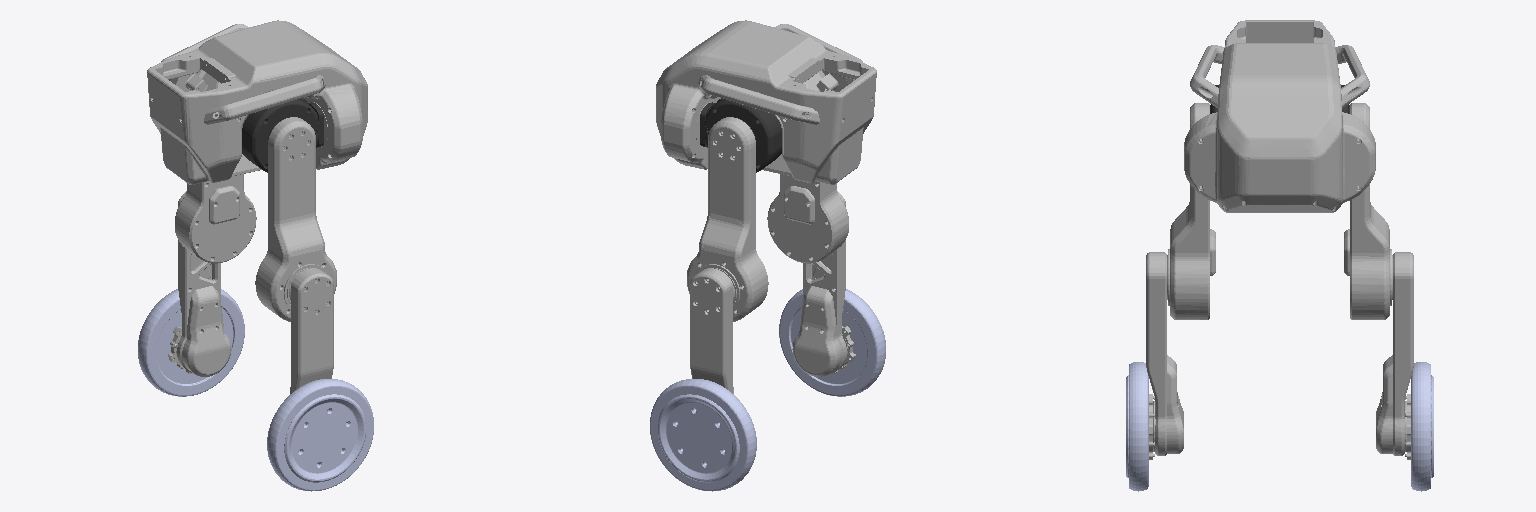
URDF robot description (pineapple):
<?xml version="1.0" encoding="utf-8"?>
<!-- This URDF was automatically created by SolidWorks to URDF Exporter! Originally created by [author] ([email redacted]) 
     Commit Version: 1.6.0-4-g7f85cfe  Build Version: 1.6.7995.38578
     For more information, please see http://wiki.ros.org/sw_urdf_exporter -->
<robot
  name="pineapple">
  <mujoco>
  <compiler
    meshdir="../meshes"
    balanceinertia="true"
    discardvisual="false" />
  </mujoco>
  <link
    name="base_link">
    <inertial>
      <origin
        xyz="0.00129425 0.00000000 0.01223901"
        rpy="0 0 0" />
      <mass
        value="2.65000000" />
      <inertia
        ixx="0.010715"
        ixy="0.000013"
        ixz="0.000632"
        iyy="0.010702"
        iyz="-0.000011"
        izz="0.014614" />
    </inertial>
    <visual>
      <origin
        xyz="0 0 0"
        rpy="0 0 0" />
      <geometry>
        <mesh
          filename="../meshes/base_link.STL" />
      </geometry>
      <material
        name="">
        <color
          rgba="0.752941176470588 0.752941176470588 0.752941176470588 1" />
      </material>
    </visual>
    <collision>
      <origin
        xyz="0 0 0"
        rpy="0 0 0" />
      <geometry>
        <mesh
          filename="../meshes/base_collision.STL" />
      </geometry>
    </collision>
  </link>
  <link
    name="L_hip">
    <inertial>
      <origin
        xyz="0.00055289 -0.00275740 0.00000000"
        rpy="0 0 0" />
      <mass
        value="0.64000000" />
      <inertia
        ixx="0.00065448"
        ixy="-0.00000344"
        ixz="0.00000098"
        iyy="0.00103799"
        iyz="0.0000001"
        izz="0.00074445" />
    </inertial>
    <visual>
      <origin
        xyz="0 0 0"
        rpy="0 0 0" />
      <geometry>
        <mesh
          filename="../meshes/L_hip.STL" />
      </geometry>
      <material
        name="">
        <color
          rgba="0.27843137254902 0.27843137254902 0.27843137254902 1" />
      </material>
    </visual>
  </link>
  <joint
    name="L_hip_joint"
    type="revolute">
    <origin
      xyz="0 0.061249999999998 0.0610009280869146"
      rpy="0 0 0" />
    <parent
      link="base_link" />
    <child
      link="L_hip" />
    <axis
      xyz="1 0 0" />
  </joint>
  <link
    name="L_thigh">
    <inertial>
      <origin
        xyz="-0.00168662 0.02735711 -0.11773571"
        rpy="0 0 0" />
      <mass
        value="0.88000000" />
      <inertia
        ixx="0.00631647"
        ixy="0.00000047"
        ixz="-0.00000296"
        iyy="0.00659227"
        iyz="0.00039185"
        izz="0.00068620" />
    </inertial>
    <visual>
      <origin
        xyz="0 0 0"
        rpy="0 0 0" />
      <geometry>
        <mesh
          filename="../meshes/L_thigh.STL" />
      </geometry>
      <material
        name="">
        <color
          rgba="0.752941176470588 0.752941176470588 0.752941176470588 1" />
      </material>
    </visual>
    <collision>
      <origin
        xyz="0 0 0"
        rpy="0 0 0" />
      <geometry>
        <mesh
          filename="../meshes/L_thigh_collision.STL" />
      </geometry>
    </collision>
  </link>
  <joint
    name="L_thigh_joint"
    type="revolute">
    <origin
      xyz="0 0.01 0"
      rpy="0 0 0" />
    <parent
      link="L_hip" />
    <child
      link="L_thigh" />
    <axis
      xyz="0 1 0" />
    <limit
      lower="0"
      upper="2.1"
      effort="23.7"
      velocity="30.1" />
  </joint>
  <link
    name="L_calf">
    <inertial>
      <origin
        xyz="-0.00006699 0.03201486 -0.12089345"
        rpy="0 0 0" />
      <mass
        value="0.65000000" />
      <inertia
        ixx="0.00444119"
        ixy="-0.00000033"
        ixz="0.00000192"
        iyy="0.00451841"
        iyz="-0.00001170"
        izz="0.00025823" />
    </inertial>
    <visual>
      <origin
        xyz="0 0 0"
        rpy="0 0 0" />
      <geometry>
        <mesh
          filename="../meshes/L_calf.STL" />
      </geometry>
      <material
        name="">
        <color
          rgba="0.752941176470588 0.752941176470588 0.752941176470588 1" />
      </material>
    </visual>
    <collision>
      <origin
        xyz="0 0 0"
        rpy="0 0 0" />
      <geometry>
        <mesh
          filename="../meshes/L_calf_collision.STL" />
      </geometry>
    </collision>
  </link>
  <joint
    name="L_calf_joint"
    type="revolute">
    <origin
      xyz="-0.0016536285573749 0.0388671106492234 -0.190000930017623"
      rpy="0 0 0" />
    <parent
      link="L_thigh" />
    <child
      link="L_calf" />
    <axis
      xyz="0 1 0" />
    <limit
      lower="-3.3"
      upper="0"
      effort="23.7"
      velocity="30.1" />
  </joint>
  <link
    name="L_wheel">
    <inertial>
      <origin
        xyz="0.00000000 0.01250278 0.00000000"
        rpy="0 0 0" />
      <mass
        value="0.30500000" />
      <inertia
        ixx="0.00053977"
        ixy="0.00000001"
        ixz="0.00000001"
        iyy="0.00105427"
        iyz="0.00000001"
        izz="0.00053980" />
    </inertial>
    <visual>
      <origin
        xyz="0 0 0"
        rpy="0 0 0" />
      <geometry>
        <mesh
          filename="../meshes/L_wheel.STL" />
      </geometry>
      <material
        name="">
        <color
          rgba="0.792156862745098 0.819607843137255 0.933333333333333 1" />
      </material>
    </visual>
    <collision>
        <origin xyz="0 0.013 0" rpy="1.5708 0 0"/>
        <geometry>
          <cylinder radius="0.075" length="0.026"/>
        </geometry>
    </collision>
  </link>
  <joint
    name="L_wheel_joint"
    type="continuous">
    <origin
      xyz="0 0.0421817504179249 -0.190000000000001"
      rpy="0 0 0" />
    <parent
      link="L_calf" />
    <child
      link="L_wheel" />
    <axis
      xyz="0 1 0" />
  </joint>
  <link
    name="R_hip">
    <inertial>
      <origin
        xyz="0.00055295 0.00275734 0.00000000"
        rpy="0 0 0" />
      <mass
        value="0.64000000" />
      <inertia
        ixx="0.00065447"
        ixy="0.00000344"
        ixz="0.00000098"
        iyy="0.00103798"
        iyz="0.00000001"
        izz="0.00074444" />
    </inertial>
    <visual>
      <origin
        xyz="0 0 0"
        rpy="0 0 0" />
      <geometry>
        <mesh
          filename="../meshes/R_hip.STL" />
      </geometry>
      <material
        name="">
        <color
          rgba="0.27843137254902 0.27843137254902 0.27843137254902 1" />
      </material>
    </visual>
  </link>
  <joint
    name="R_hip_joint"
    type="revolute">
    <origin
      xyz="0 -0.0612499999999985 0.0610009280869152"
      rpy="0 0 0" />
    <parent
      link="base_link" />
    <child
      link="R_hip" />
    <axis
      xyz="1 0 0" />
  </joint>
  <link
    name="R_thigh">
    <inertial>
      <origin
        xyz="-0.01168842 -0.03735700 -0.11773770"
        rpy="0 0 0" />
      <mass
        value="0.88000000" />
      <inertia
        ixx="0.00631637"
        ixy="-0.00000046"
        ixz="-0.00000316"
        iyy="0.00659176"
        iyz="-0.00039185"
        izz="0.00068581" />
    </inertial>
    <visual>
      <origin
        xyz="0 0 0"
        rpy="0 0 0" />
      <geometry>
        <mesh
          filename="../meshes/R_thigh.STL" />
      </geometry>
      <material
        name="">
        <color
          rgba="0.752941176470588 0.752941176470588 0.752941176470588 1" />
      </material>
    </visual>
    <collision>
      <origin
        xyz="0 0 0"
        rpy="0 0 0" />
      <geometry>
        <mesh
          filename="../meshes/R_thigh_collision.STL" />
      </geometry>
    </collision>
  </link>
  <joint
    name="R_thigh_joint"
    type="revolute">
    <origin
      xyz="0.01 0 0"
      rpy="0 0 0" />
    <parent
      link="R_hip" />
    <child
      link="R_thigh" />
    <axis
      xyz="0 1 0" />
    <limit
      lower="0"
      upper="2.1"
      effort="23.7"
      velocity="30.1" />
  </joint>
  <link
    name="R_calf">
    <inertial>
      <origin
        xyz="0.00008556 -0.03238223 -0.12089"
        rpy="0 0 0" />
      <mass
        value="0.65000000" />
      <inertia
        ixx="0.00444119"
        ixy="-0.00000033"
        ixz="0.00000192"
        iyy="0.00451841"
        iyz="-0.00001170"
        izz="0.00025823" />
    </inertial>
    <visual>
      <origin
        xyz="0 0 0"
        rpy="0 0 0" />
      <geometry>
        <mesh
          filename="../meshes/R_calf.STL" />
      </geometry>
      <material
        name="">
        <color
          rgba="0.752941176470588 0.752941176470588 0.752941176470588 1" />
      </material>
    </visual>
    <collision>
      <origin
        xyz="0 0 0"
        rpy="0 0 0" />
      <geometry>
        <mesh
          filename="../meshes/R_calf_collision.STL" />
      </geometry>
    </collision>
  </link>
  <joint
    name="R_calf_joint"
    type="revolute">
    <origin
      xyz="-0.0116536285573748 -0.0488671065357543 -0.190000930017624"
      rpy="0 0 0" />
    <parent
      link="R_thigh" />
    <child
      link="R_calf" />
    <axis
      xyz="0 1 0" />
    <limit
      lower="-3.3"
      upper="0"
      effort="23.7"
      velocity="30.1" />
  </joint>
  <link
    name="R_wheel">
    <inertial>
      <origin
        xyz="0.00000000 -0.01250277 0.00000000"
        rpy="0 0 0" />
      <mass
        value="0.30500000" />
      <inertia
        ixx="0.00053977"
        ixy="-0.00000001"
        ixz="0.00000003"
        iyy="0.00105426"
        iyz="-0.00000001"
        izz="0.00053978" />
    </inertial>
    <visual>
      <origin
        xyz="0 0 0"
        rpy="0 0 0" />
      <geometry>
        <mesh
          filename="../meshes/R_wheel.STL" />
      </geometry>
      <material
        name="">
        <color
          rgba="0.792156862745098 0.819607843137255 0.933333333333333 1" />
      </material>
    </visual>
    <collision>
      <origin xyz="0 -0.013 0" rpy="1.5708 0 0"/>
      <geometry>
        <cylinder radius="0.075" length="0.026"/>
      </geometry>
    </collision>
  </link>
  <joint
    name="R_wheel_joint"
    type="continuous">
    <origin
      xyz="0 -0.0421817545313912 -0.190000000000001"
      rpy="0 0 0" />
    <parent
      link="R_calf" />
    <child
      link="R_wheel" />
    <axis
      xyz="0 1 0" />
  </joint>
</robot>

--- Render facts (derived) ---
Views: 3 orthographic renders of the robot side by side, from view 1: azimuth 30°, elevation 25°; view 2: azimuth 150°, elevation 25°; view 3: azimuth 270°, elevation 25°.
Model pineapple with 9 links and 8 joints (6 revolute, 2 continuous), rooted at base_link, posed every joint at zero.
Visible links, largest first — view 1: base_link, R_wheel, R_thigh, L_calf, L_thigh, L_wheel, R_calf, R_hip; view 2: base_link, L_wheel, L_thigh, R_calf, R_thigh, R_wheel, L_calf, L_hip; view 3: base_link, L_thigh, R_thigh, L_calf, R_calf, L_wheel, R_wheel.
Link boxes in pixels (left/top/right/bottom): base_link: left=147, top=20, right=367, bottom=184; R_wheel: left=267, top=379, right=373, bottom=491; R_thigh: left=255, top=117, right=336, bottom=321; L_calf: left=168, top=191, right=231, bottom=376; L_thigh: left=175, top=174, right=256, bottom=263; L_wheel: left=138, top=289, right=244, bottom=396; R_calf: left=290, top=268, right=333, bottom=393; R_hip: left=242, top=98, right=323, bottom=172; base_link: left=656, top=20, right=876, bottom=184; L_wheel: left=650, top=379, right=756, bottom=491; L_thigh: left=687, top=117, right=768, bottom=321; R_calf: left=792, top=191, right=855, bottom=376; R_thigh: left=767, top=174, right=848, bottom=263; R_wheel: left=779, top=289, right=885, bottom=396; L_calf: left=690, top=268, right=733, bottom=393; L_hip: left=700, top=98, right=781, bottom=172; base_link: left=1184, top=20, right=1375, bottom=212; L_thigh: left=1344, top=103, right=1392, bottom=319; R_thigh: left=1167, top=103, right=1215, bottom=319; L_calf: left=1376, top=252, right=1413, bottom=459; R_calf: left=1146, top=252, right=1183, bottom=459; L_wheel: left=1411, top=362, right=1433, bottom=491; R_wheel: left=1126, top=362, right=1148, bottom=491.
Bounding box of the posed robot: 0.2742 × 0.3566 × 0.5512 m (x, y, z).
9 mesh visuals loaded from 9 distinct referenced files (9 binary STL).